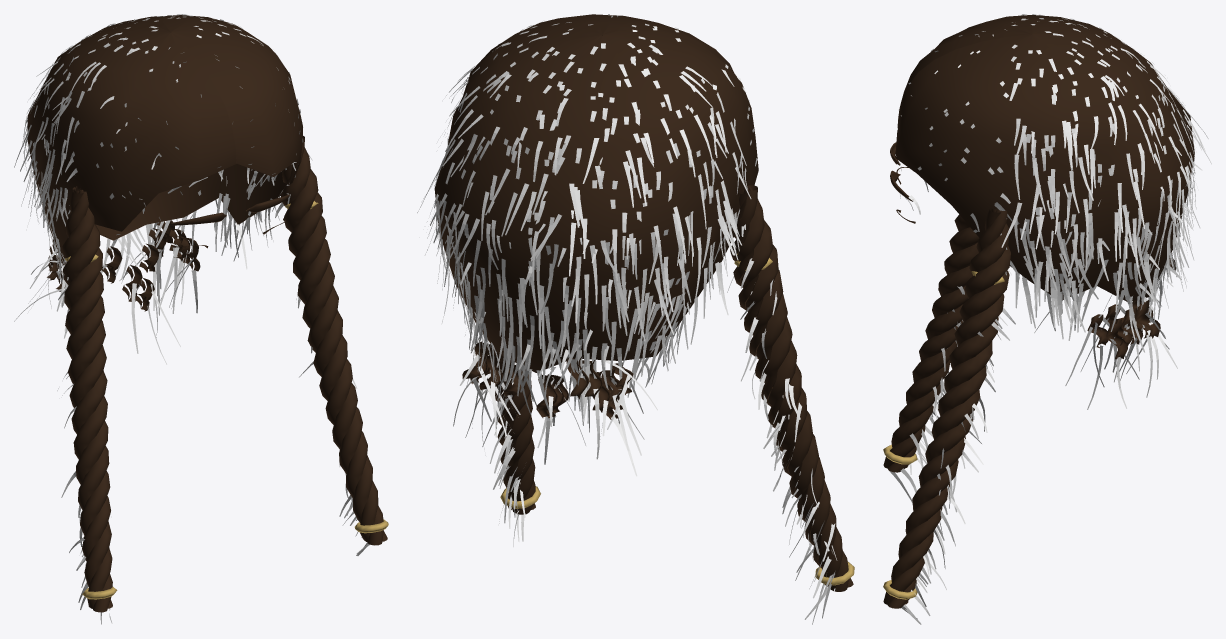
File: hair-berserker-braids.glb
3 renders of one model, left to right at view 1: azimuth 30°, elevation 25°; view 2: azimuth 150°, elevation 25°; view 3: azimuth 270°, elevation 25°, orthographic. The views are drawn at different scales.
Parts seen in each view (by area): view 1: hair-berserker-braids_1, hair__strands, hair-berserker-braids_2; view 2: hair-berserker-braids_1, hair__strands, hair-berserker-braids_2; view 3: hair-berserker-braids_1, hair__strands, hair-berserker-braids_2.
Part boxes in pixels (x1,y1,x2,y2): hair-berserker-braids_1: (27,15,387,612); hair__strands: (14,14,369,624); hair-berserker-braids_2: (65,201,388,599); hair-berserker-braids_1: (434,14,853,591); hair__strands: (417,14,837,624); hair-berserker-braids_2: (500,254,854,585); hair-berserker-braids_1: (883,15,1194,608); hair__strands: (889,14,1211,624); hair-berserker-braids_2: (883,271,1004,599).
Size of the model in its own units: 0.298 by 0.4905 by 0.2758.
